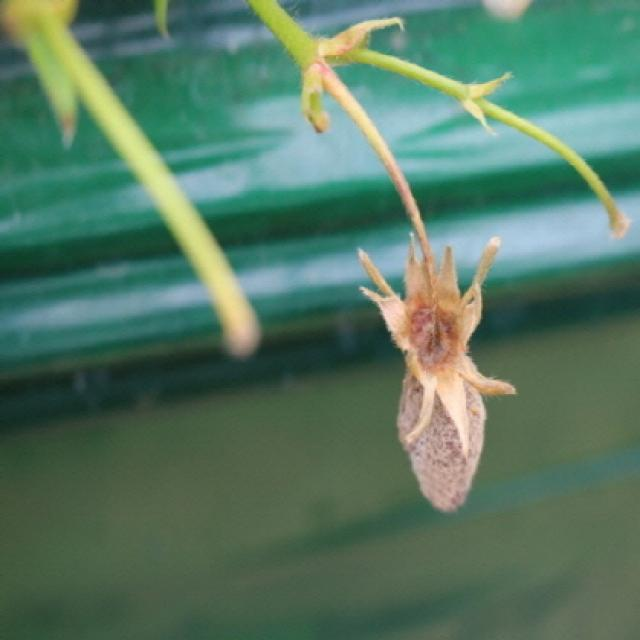Gray Mold: (375, 239, 519, 514)
